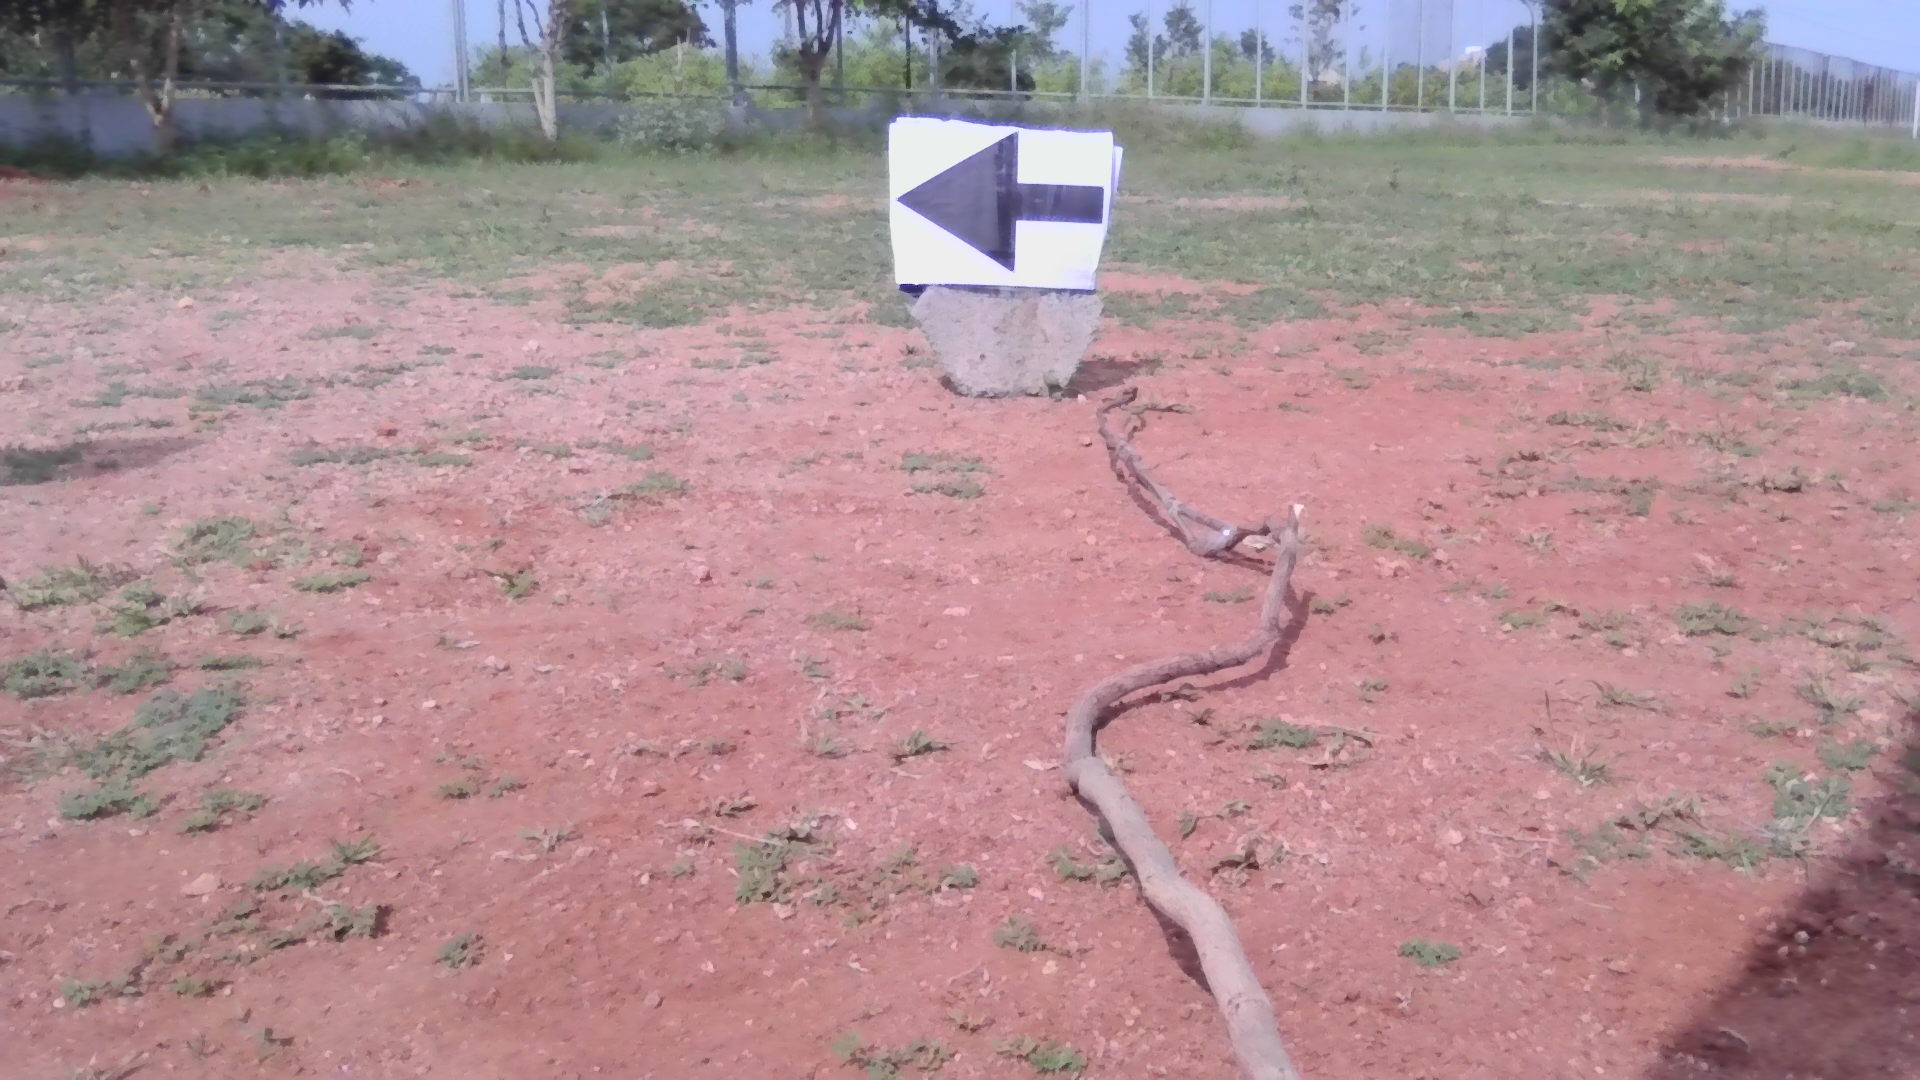leftDir: (895, 117, 1114, 293)
